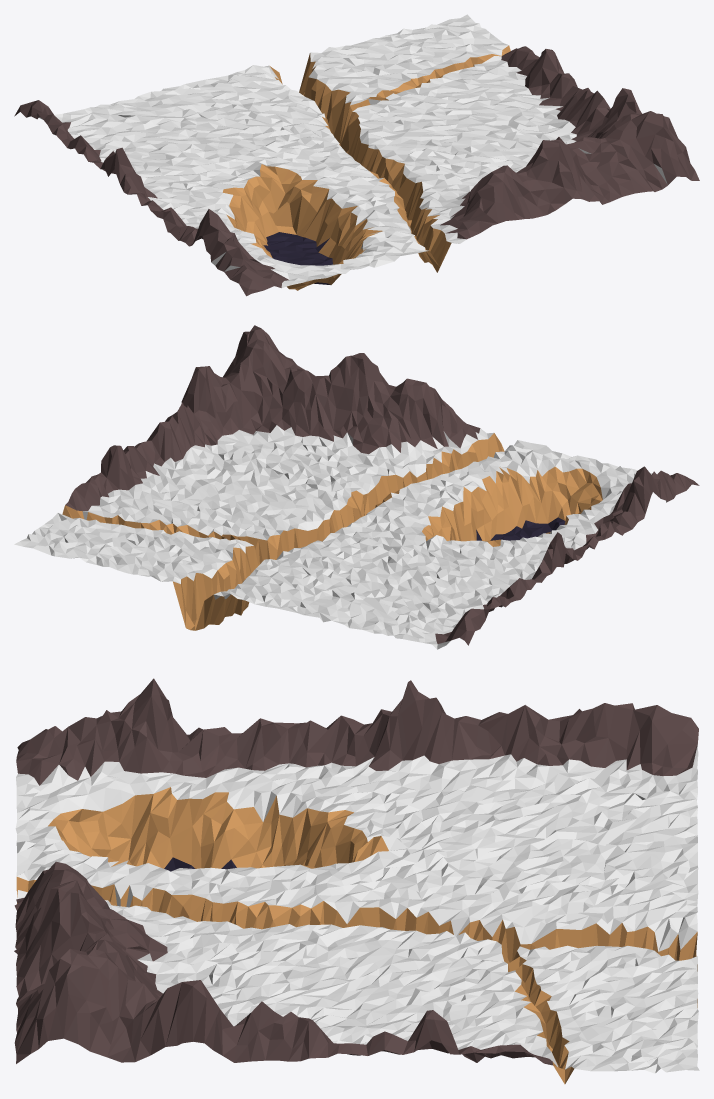
File: MapaColoreado.fbx
The picture shows the model from 3 angles, top to bottom: view 1: azimuth 30°, elevation 25°; view 2: azimuth 150°, elevation 25°; view 3: azimuth 270°, elevation 25°; orthographic projection. The views are drawn at different scales.
Visible parts, largest first — view 1: Terrain; view 2: Terrain; view 3: Terrain.
Part boxes in pixels (x1=…): Terrain: x1=14, y1=14, x2=699, y2=296; Terrain: x1=14, y1=325, x2=699, y2=649; Terrain: x1=14, y1=678, x2=699, y2=1084.
Bounding box in the file's own units: 45415 × 10735 × 40291.
